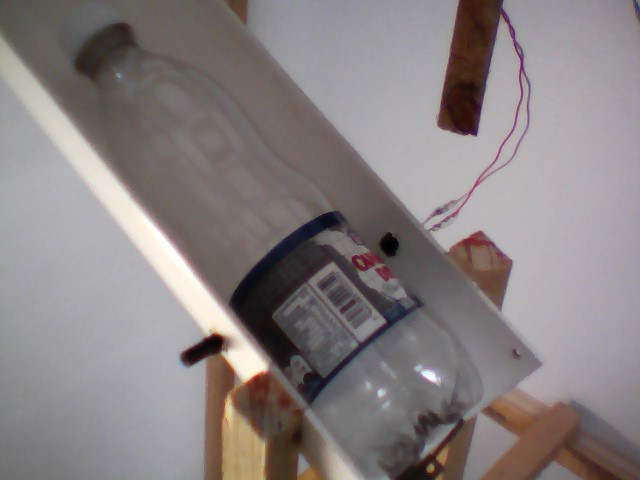plastico: (54, 1, 487, 472)
